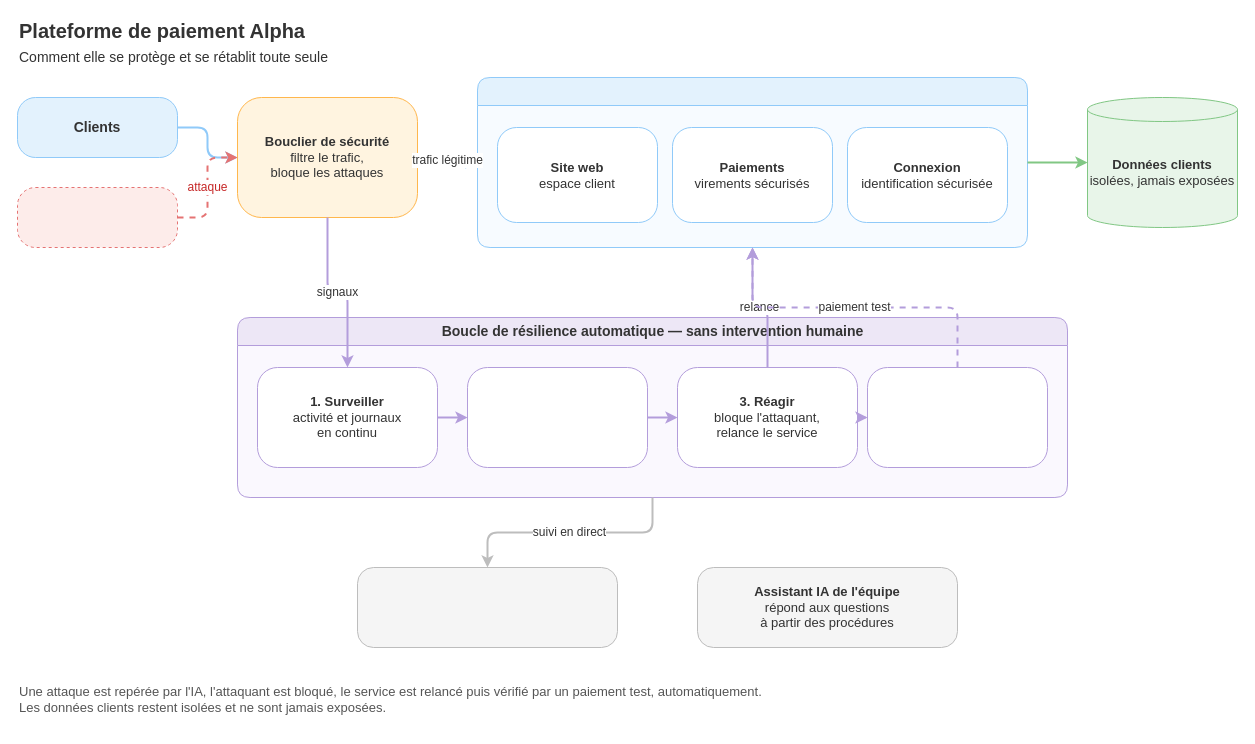
Image size: 1255x744. Some labels were removed from this diagram. Here are the shapes that lost their labels. From the top down, the box of each, then its label:
(476, 76, 1028, 248): Plateforme de paiement
(16, 186, 178, 248): Attaquant
(466, 366, 648, 468): 2. Détecter une IA repère le comportement anormal
(866, 366, 1048, 468): 4. Vérifier un paiement test confirme que tout fonctionne
(356, 566, 618, 648): Tableau de bord état du service, alertes et actions en temps réel
